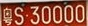S: (15, 7, 24, 25)
